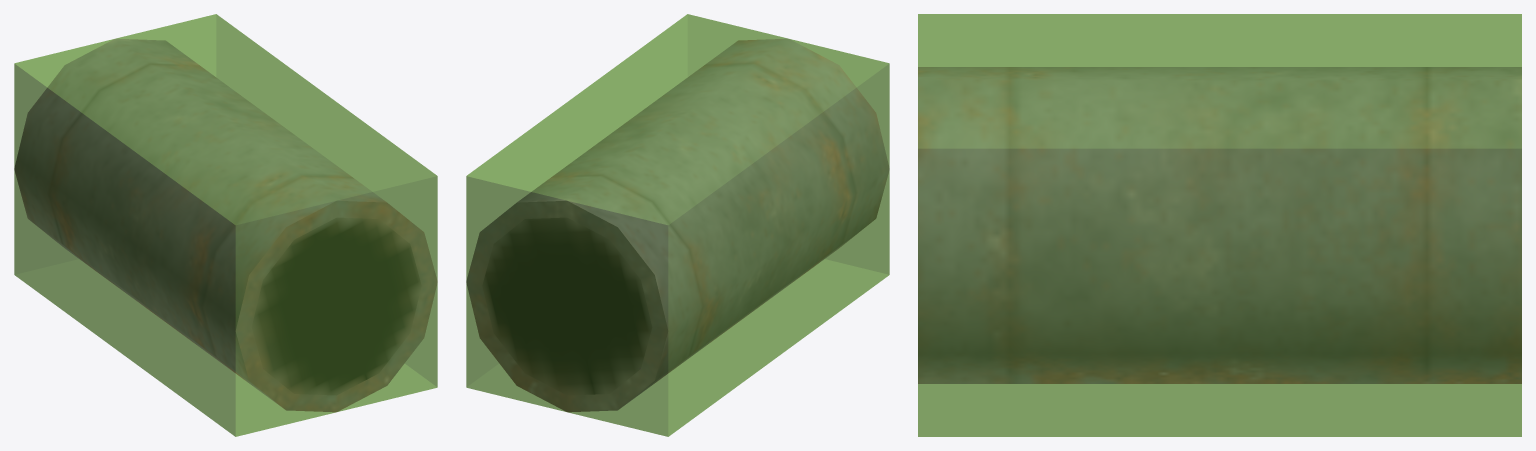
File: p_PipeConnector_01_a.fbx
3 renders of one model, left to right at view 1: azimuth 30°, elevation 25°; view 2: azimuth 150°, elevation 25°; view 3: azimuth 270°, elevation 25°, orthographic. The views are drawn at different scales.
Visible parts, largest first — view 1: p_PipeConnector_01_a_col_01, p_PipeConnector_01_a_LOD0; view 2: p_PipeConnector_01_a_col_01, p_PipeConnector_01_a_LOD0; view 3: p_PipeConnector_01_a_col_01, p_PipeConnector_01_a_LOD0.
Part boxes in pixels (<box>): p_PipeConnector_01_a_col_01: <box>14,14,437,436</box>; p_PipeConnector_01_a_LOD0: <box>14,38,437,412</box>; p_PipeConnector_01_a_col_01: <box>466,14,889,436</box>; p_PipeConnector_01_a_LOD0: <box>466,38,889,412</box>; p_PipeConnector_01_a_col_01: <box>918,14,1521,436</box>; p_PipeConnector_01_a_LOD0: <box>918,67,1521,383</box>.
Size of what is drawn, in the model's own units: 2.87 by 2.87 by 5.44.
